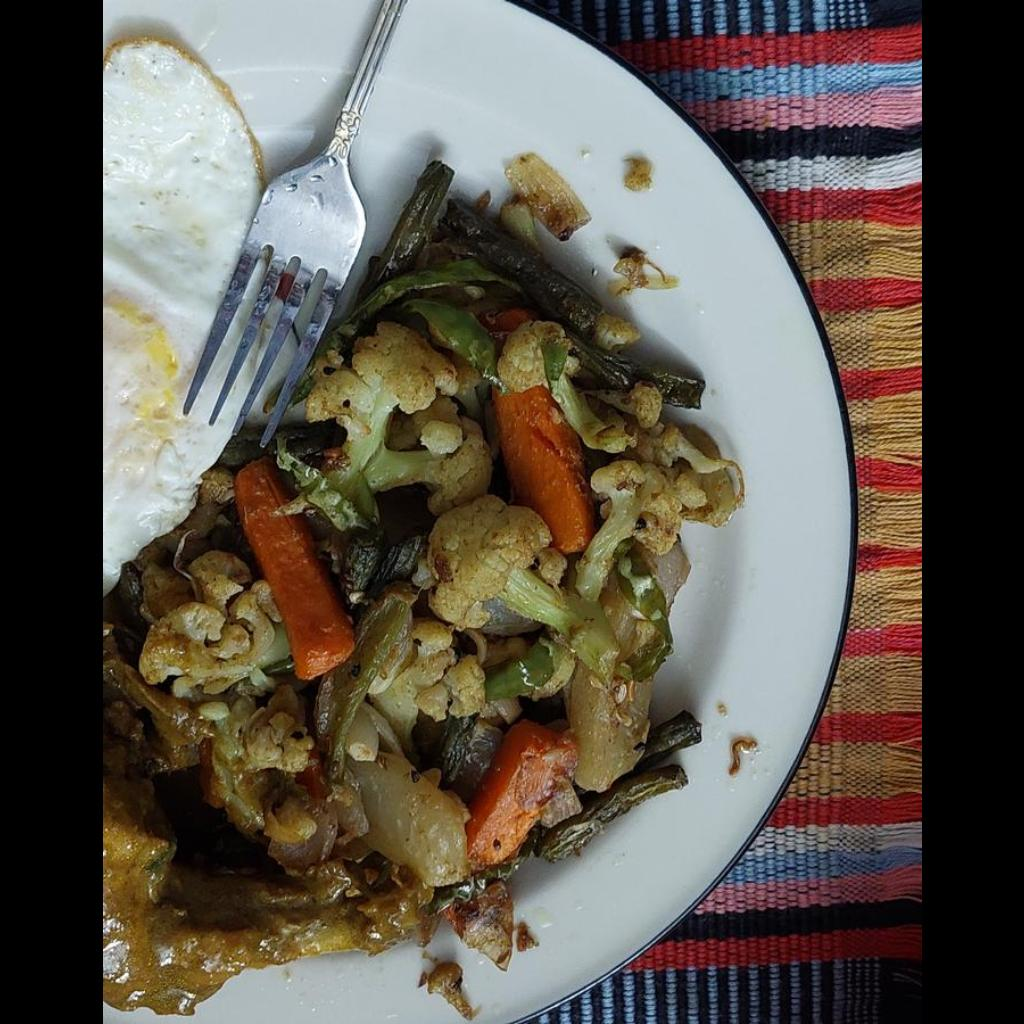chicken: (104, 621, 415, 1019)
egg-poached: (102, 37, 268, 593)
vegetable: (127, 152, 747, 992)
